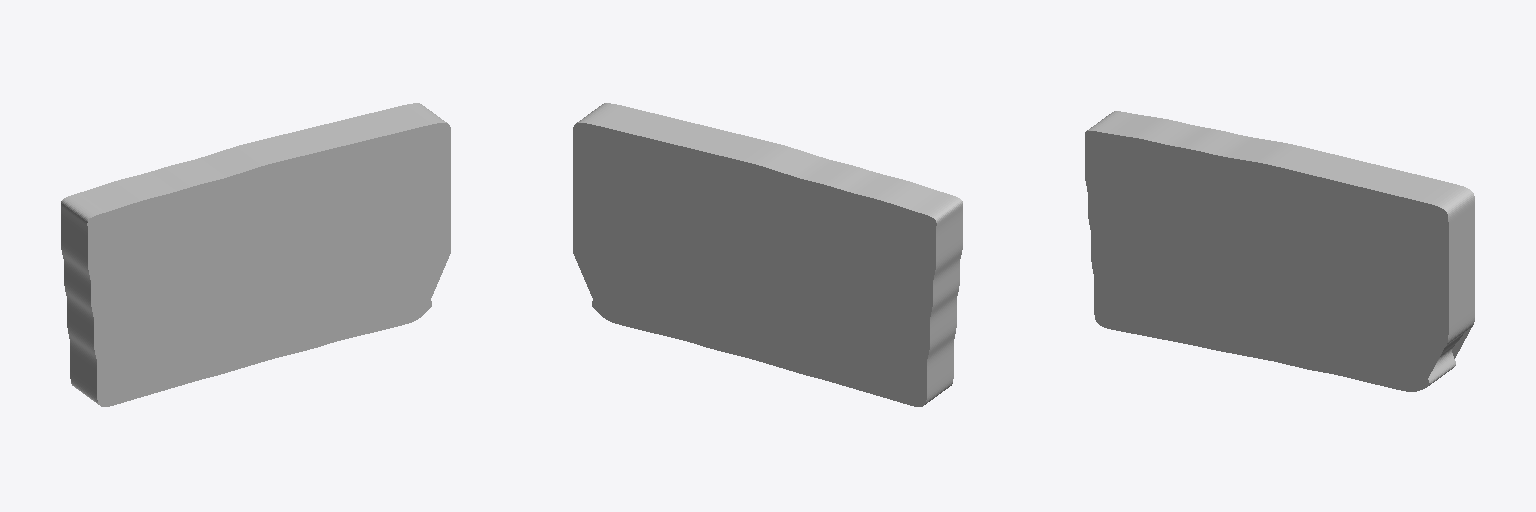
The picture shows the model from 3 angles: view 1: azimuth 30°, elevation 25°; view 2: azimuth 150°, elevation 25°; view 3: azimuth 330°, elevation 25°; orthographic projection.
Parts seen in each view (by area): view 1: 平面; view 2: 平面; view 3: 平面.
Boxes of the visible parts, <box> form: 平面: <box>61,103,450,406</box>; 平面: <box>573,103,962,406</box>; 平面: <box>1085,111,1474,391</box>.
Size of the model in its own units: 1.57 by 0.8376 by 0.2.